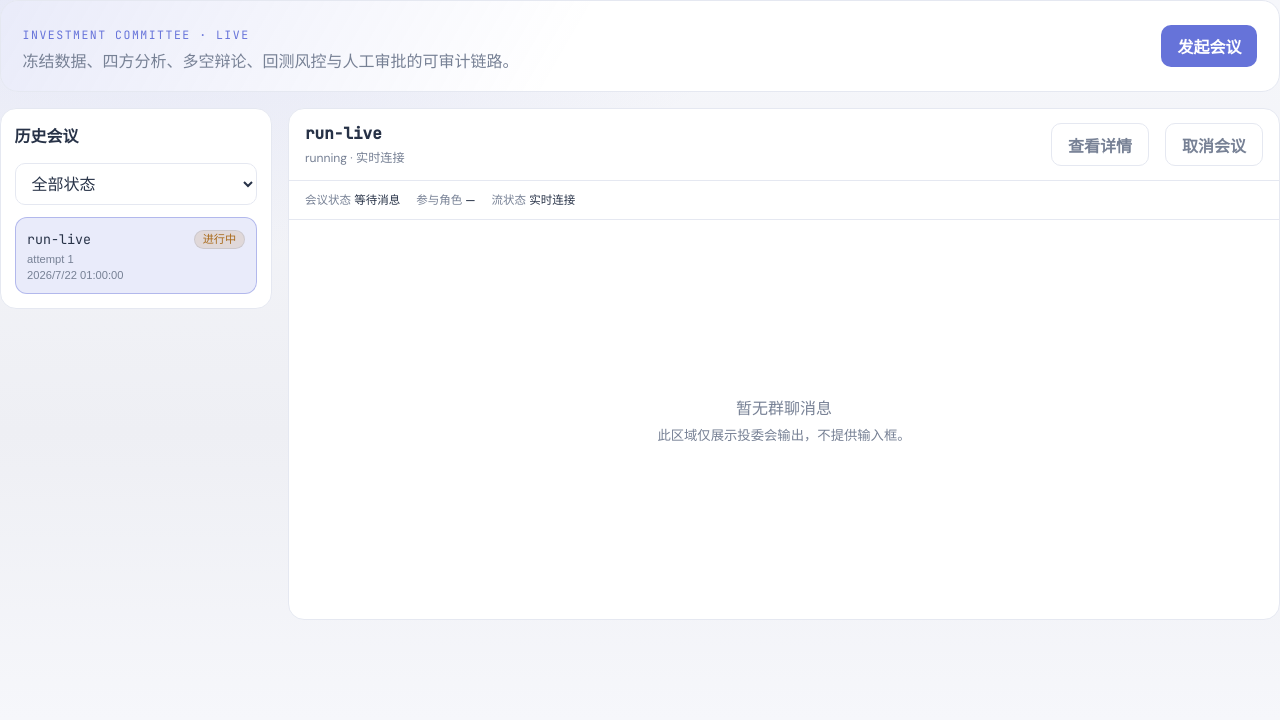
CommitteePage › 取消使用响应并显式刷新当前详情
Click the button "取消会议". click: (1214, 145)
box: [1165,123,1263,166]
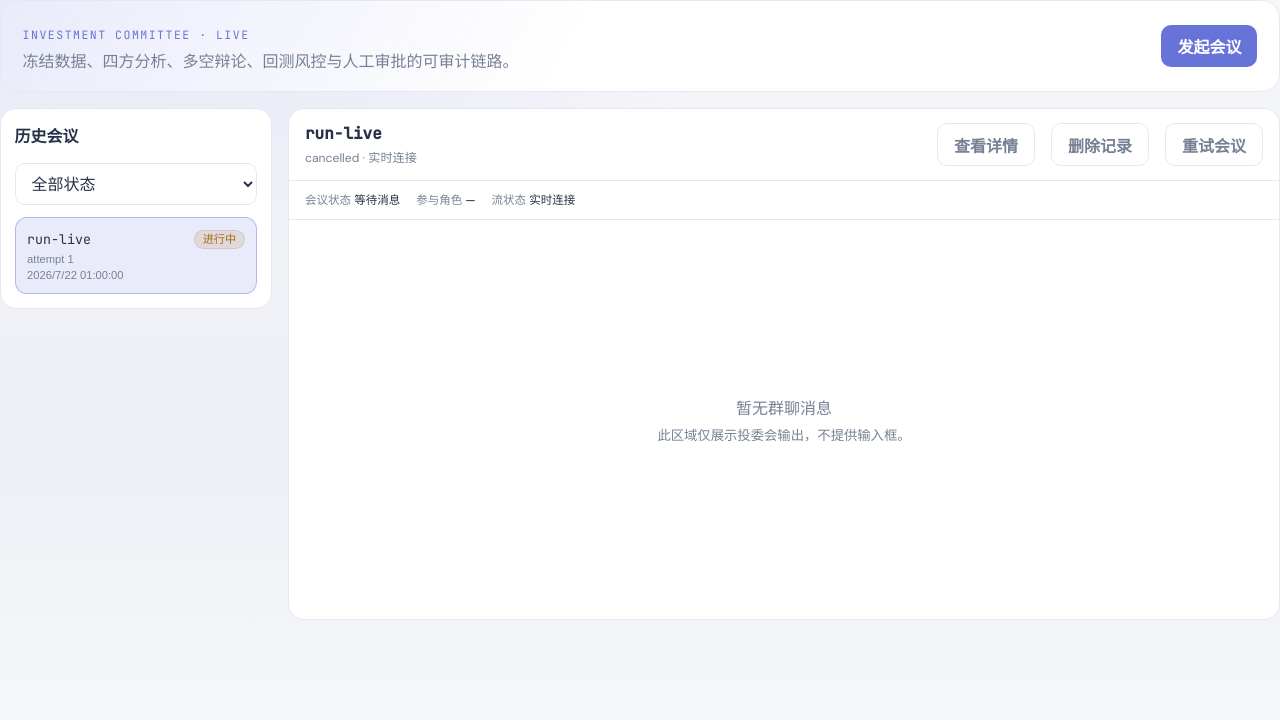
Result: the text "cancelled · 实时连接" is shown at [305,148,417,166]
